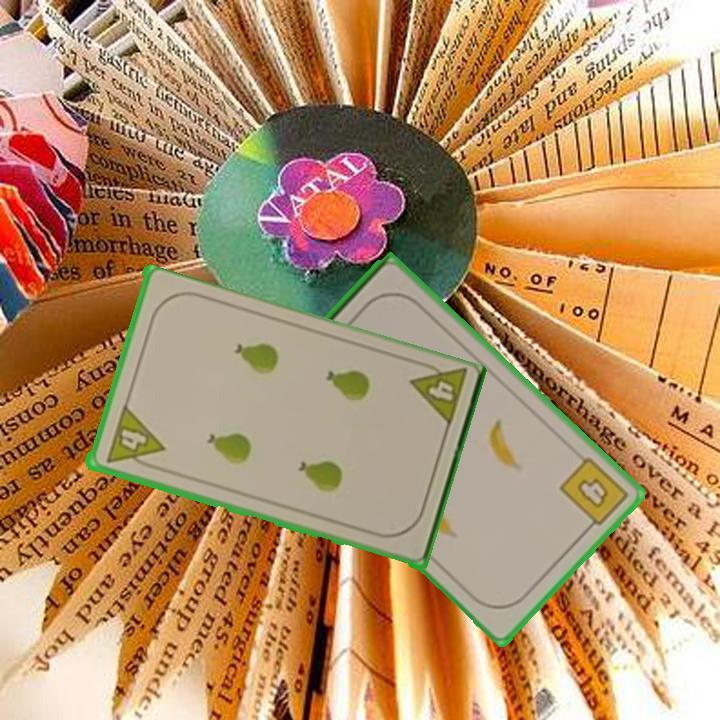4b: (556, 453, 632, 535)
4p: (405, 356, 470, 432), (102, 403, 166, 473)
